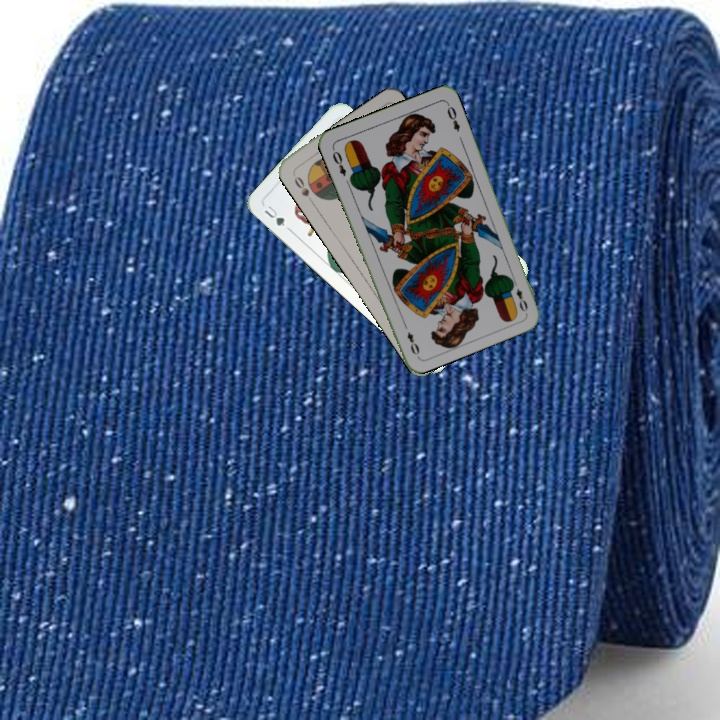EO: (508, 276, 530, 314), (328, 147, 349, 179)
GU: (260, 201, 288, 229)
SO: (289, 169, 316, 206)
